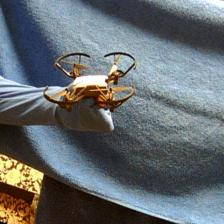drone: (46, 50, 137, 108)
